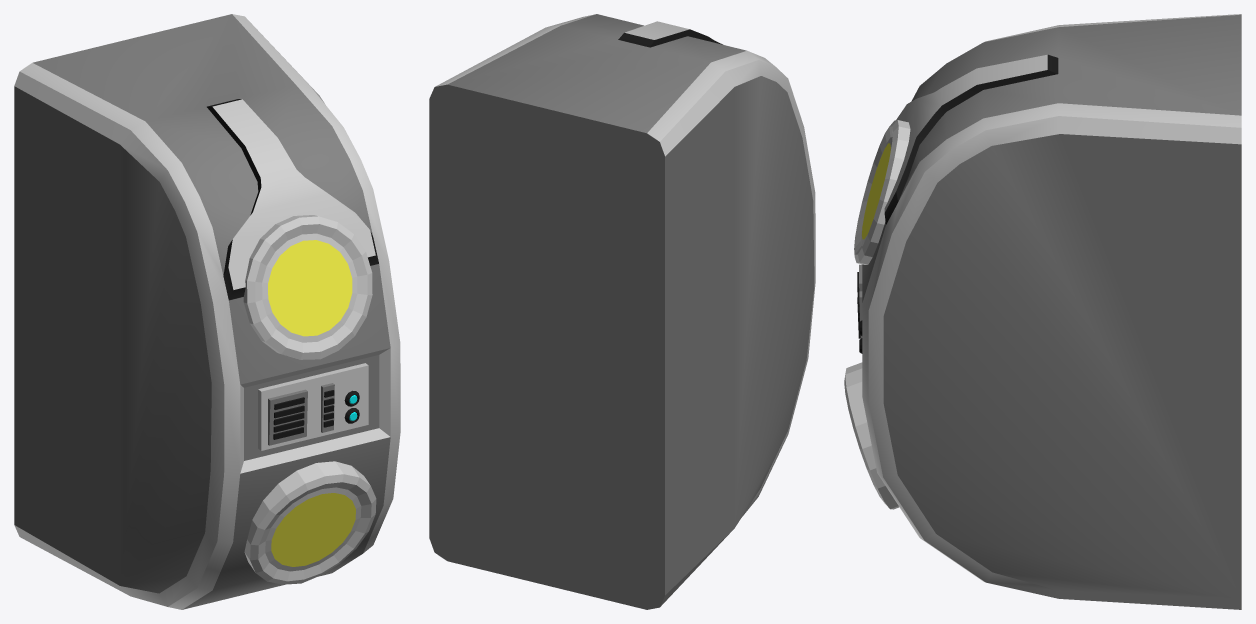
File: Module_012.fbx
3 views of the same model, side by side, from view 1: azimuth 30°, elevation 25°; view 2: azimuth 150°, elevation 25°; view 3: azimuth 270°, elevation 25° (orthographic). The views are drawn at different scales.
Visible parts, largest first — view 1: Module_012; view 2: Module_012; view 3: Module_012.
Part boxes in pixels (box(x1,y1,x2,y2)): Module_012: box(14, 14, 400, 609); Module_012: box(429, 14, 815, 609); Module_012: box(844, 14, 1241, 609).
Size of the model in its own units: 249 by 485 by 351.
